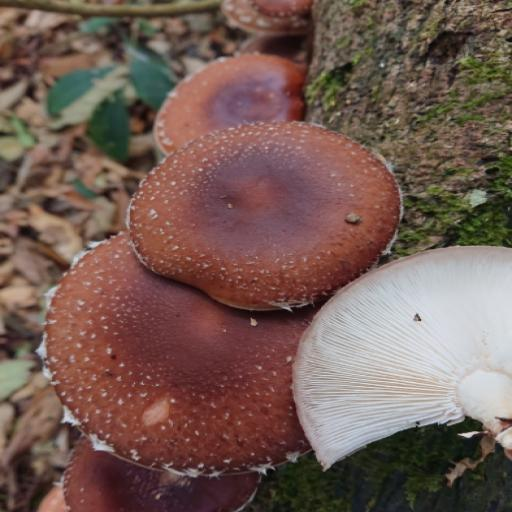Shiitake Mushroom: (0, 5, 512, 512), (231, 6, 313, 32)
